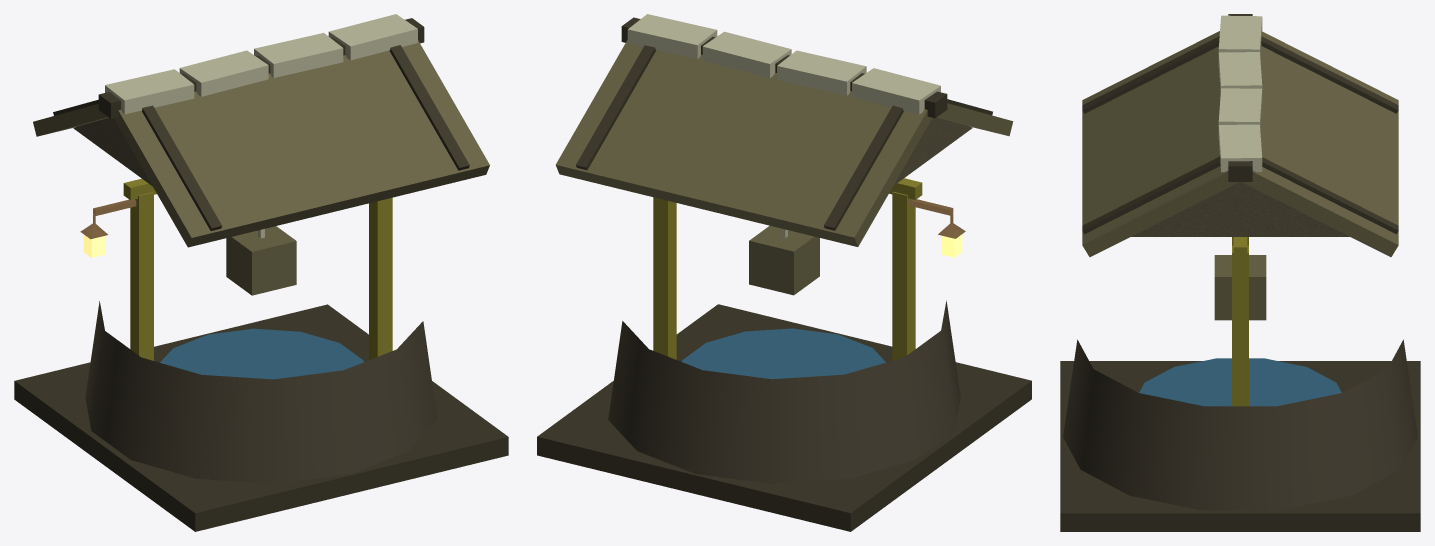
Rendered from candidate.glb.
3 views of the same model, side by side, from view 1: azimuth 30°, elevation 25°; view 2: azimuth 150°, elevation 25°; view 3: azimuth 270°, elevation 25° (orthographic).
Visible parts, largest first — view 1: well_roof_ss, well_ring, well_base, well_water, well_bucket, well_post_w, well_post_e, well_roof_cap_2, well_roof_cap_1, well_roof_cap_0, well_roof_cap_3, well_roof_rakees (+4 smaller); view 2: well_roof_sn, well_ring, well_base, well_water, well_bucket, well_post_w, well_post_e, well_roof_cap_1, well_roof_cap_2, well_roof_cap_3, well_roof_cap_0, well_roof_rakeen (+4 smaller); view 3: well_ring, well_roof_sn, well_roof_ss, well_base, well_water, well_roof_ende, well_post_e, well_bucket, well_roof_cap_3, well_roof_cap_1, well_roof_cap_2, well_roof_cap_0 (+5 smaller).
Boxes of the visible parts, <box> form: well_roof_ss: <box>114,40,489,247</box>; well_ring: <box>85,301,437,483</box>; well_base: <box>14,304,508,531</box>; well_water: <box>160,328,363,379</box>; well_bucket: <box>226,226,296,295</box>; well_post_w: <box>130,192,153,360</box>; well_post_e: <box>369,197,392,359</box>; well_roof_cap_2: <box>254,33,343,77</box>; well_roof_cap_1: <box>179,50,268,96</box>; well_roof_cap_0: <box>105,69,194,114</box>; well_roof_cap_3: <box>328,14,417,60</box>; well_roof_rakees: <box>389,45,469,170</box>; well_roof_sn: <box>555,40,932,246</box>; well_ring: <box>608,300,960,483</box>; well_base: <box>537,304,1031,531</box>; well_water: <box>682,328,885,379</box>; well_bucket: <box>749,226,819,295</box>; well_post_w: <box>892,191,915,360</box>; well_post_e: <box>653,197,676,359</box>; well_roof_cap_1: <box>777,50,866,95</box>; well_roof_cap_2: <box>702,31,791,77</box>; well_roof_cap_3: <box>627,14,717,59</box>; well_roof_cap_0: <box>852,68,940,114</box>; well_roof_rakeen: <box>576,45,656,169</box>; well_ring: <box>1063,339,1417,510</box>; well_roof_sn: <box>1242,31,1398,256</box>; well_roof_ss: <box>1082,31,1238,256</box>; well_base: <box>1060,361,1420,531</box>; well_water: <box>1139,358,1341,406</box>; well_roof_ende: <box>1131,182,1349,236</box>; well_post_e: <box>1232,245,1248,406</box>; well_bucket: <box>1214,255,1266,320</box>; well_roof_cap_3: <box>1218,124,1262,172</box>; well_roof_cap_1: <box>1218,52,1262,91</box>; well_roof_cap_2: <box>1218,88,1262,127</box>; well_roof_cap_0: <box>1218,15,1262,55</box>.
Size of the model in its own units: 2.23 by 2.37 by 2.1.
Materials: 4 (1 with a texture image).
